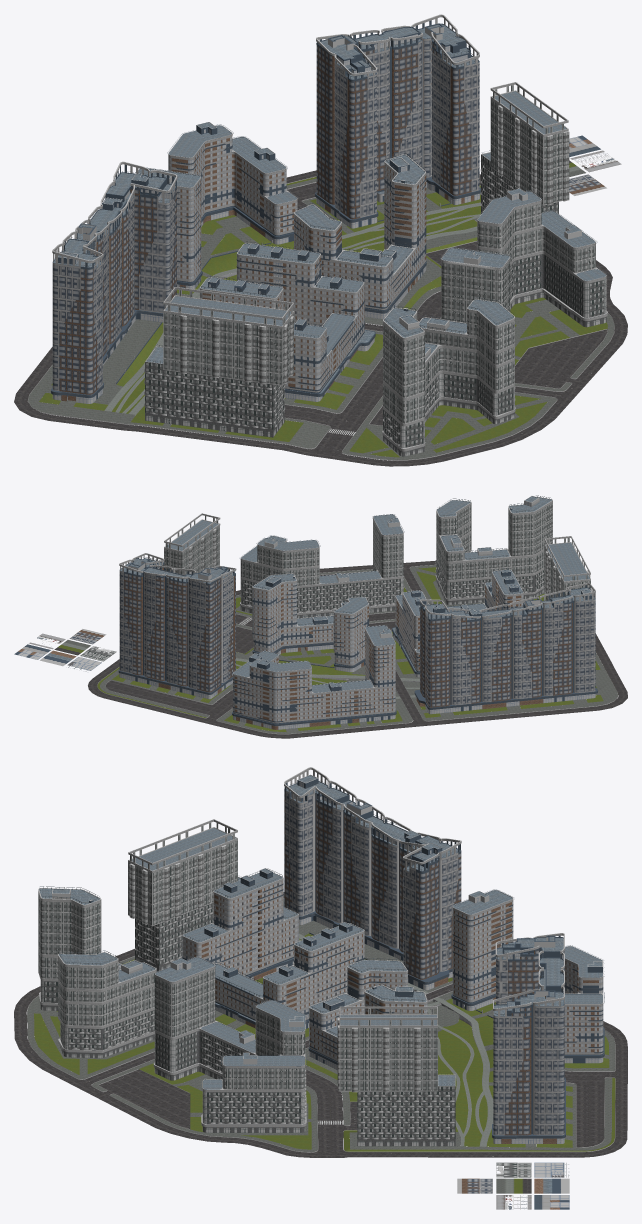
The model's file is NewCityCompressed.glb.
The picture shows the model from 3 angles, top to bottom: view 1: azimuth 30°, elevation 25°; view 2: azimuth 150°, elevation 25°; view 3: azimuth 270°, elevation 25°; orthographic projection. The views are drawn at different scales.
Parts seen in each view (by area): view 1: Plane%2E057_4_0_n3d, Cube%2E192_7_0_n3d, Plane%2E057_3_0_n3d, Plane%2E057_2_0_n3d, bridge_5_0_n3d, roads_5_0_n3d, Plane%2E057_1_0_n3d, dec%2E001_6_0_n3d; view 2: Cube%2E192_7_0_n3d, Plane%2E057_3_0_n3d, Plane%2E057_2_0_n3d, Plane%2E057_4_0_n3d, bridge_5_0_n3d, roads_5_0_n3d, Plane%2E057_1_0_n3d, dec%2E001_6_0_n3d; view 3: Plane%2E057_4_0_n3d, Plane%2E057_3_0_n3d, Cube%2E192_7_0_n3d, Plane%2E057_2_0_n3d, bridge_5_0_n3d, roads_5_0_n3d, Plane%2E057_1_0_n3d, dec%2E001_6_0_n3d.
Part boxes in pixels (bbox=[...]): Plane%2E057_4_0_n3d: bbox=[144, 85, 606, 456]; Cube%2E192_7_0_n3d: bbox=[52, 38, 606, 394]; Plane%2E057_3_0_n3d: bbox=[51, 15, 607, 451]; Plane%2E057_2_0_n3d: bbox=[51, 14, 607, 448]; bridge_5_0_n3d: bbox=[28, 160, 614, 459]; roads_5_0_n3d: bbox=[14, 170, 627, 466]; Plane%2E057_1_0_n3d: bbox=[52, 34, 607, 403]; dec%2E001_6_0_n3d: bbox=[27, 150, 621, 460]; Cube%2E192_7_0_n3d: bbox=[69, 565, 595, 707]; Plane%2E057_3_0_n3d: bbox=[14, 500, 597, 726]; Plane%2E057_2_0_n3d: bbox=[40, 496, 597, 729]; Plane%2E057_4_0_n3d: bbox=[80, 502, 590, 682]; bridge_5_0_n3d: bbox=[54, 565, 617, 733]; roads_5_0_n3d: bbox=[88, 560, 627, 738]; Plane%2E057_1_0_n3d: bbox=[67, 495, 595, 729]; dec%2E001_6_0_n3d: bbox=[29, 564, 617, 734]; Plane%2E057_4_0_n3d: bbox=[38, 823, 531, 1177]; Plane%2E057_3_0_n3d: bbox=[38, 767, 604, 1209]; Cube%2E192_7_0_n3d: bbox=[284, 791, 564, 1193]; Plane%2E057_2_0_n3d: bbox=[38, 767, 604, 1193]; bridge_5_0_n3d: bbox=[27, 898, 615, 1193]; roads_5_0_n3d: bbox=[14, 892, 627, 1157]; Plane%2E057_1_0_n3d: bbox=[40, 781, 604, 1177]; dec%2E001_6_0_n3d: bbox=[27, 956, 615, 1209].
Size of the model in its own units: 49388 by 11750 by 40058.
8 materials, 8 textured.
